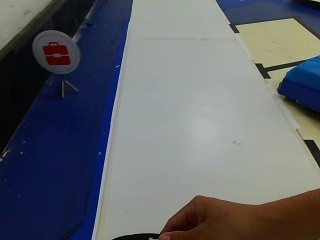company: (27, 29, 79, 77)
